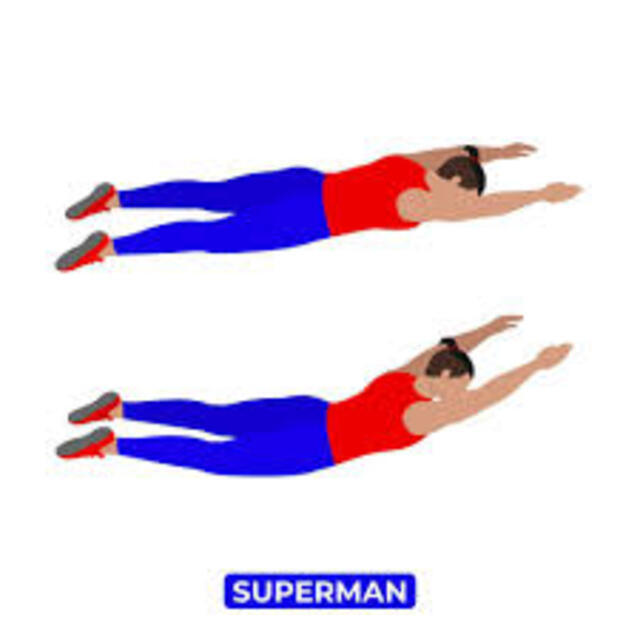Locust_Pose: (57, 312, 575, 477)
